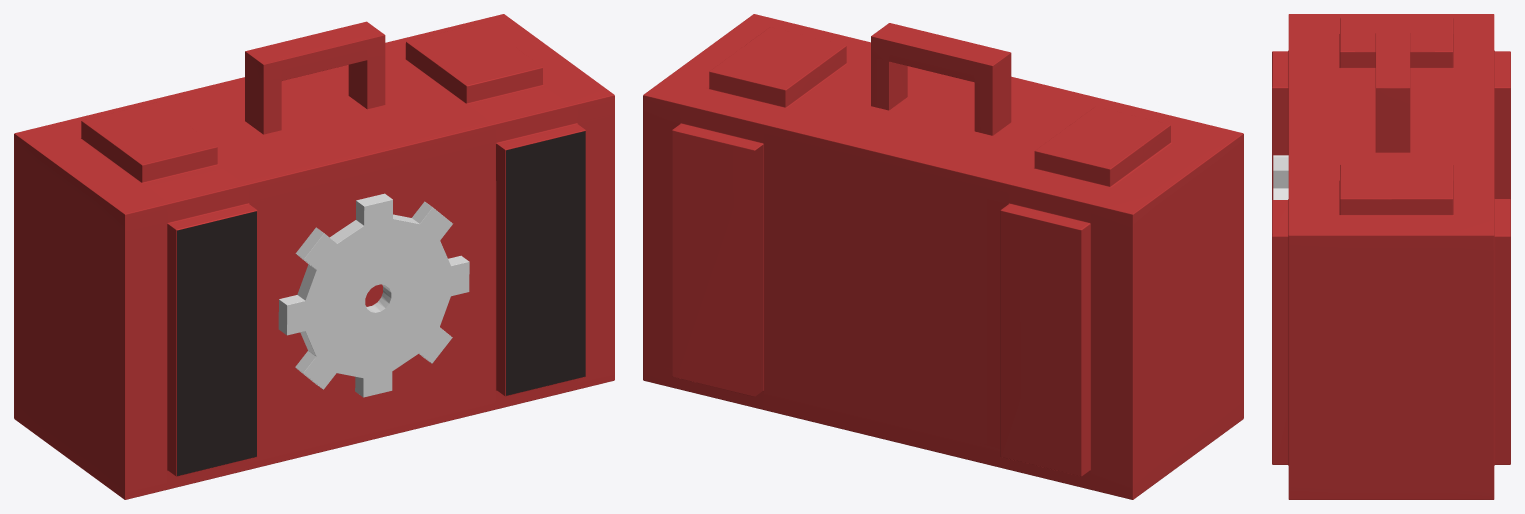
File: RepairKit.fbx
The picture shows the model from 3 angles, left to right: view 1: azimuth 30°, elevation 25°; view 2: azimuth 150°, elevation 25°; view 3: azimuth 270°, elevation 25°; orthographic projection. The views are drawn at different scales.
Visible parts, largest first — view 1: pCylinder4; view 2: pCylinder4; view 3: pCylinder4.
Boxes of the visible parts, box(x1,y1,x2,y2) form: pCylinder4: box(14, 14, 614, 499); pCylinder4: box(643, 14, 1243, 499); pCylinder4: box(1272, 14, 1510, 499).
Size of the model in its own units: 10.2 by 7.46 by 4.64.
